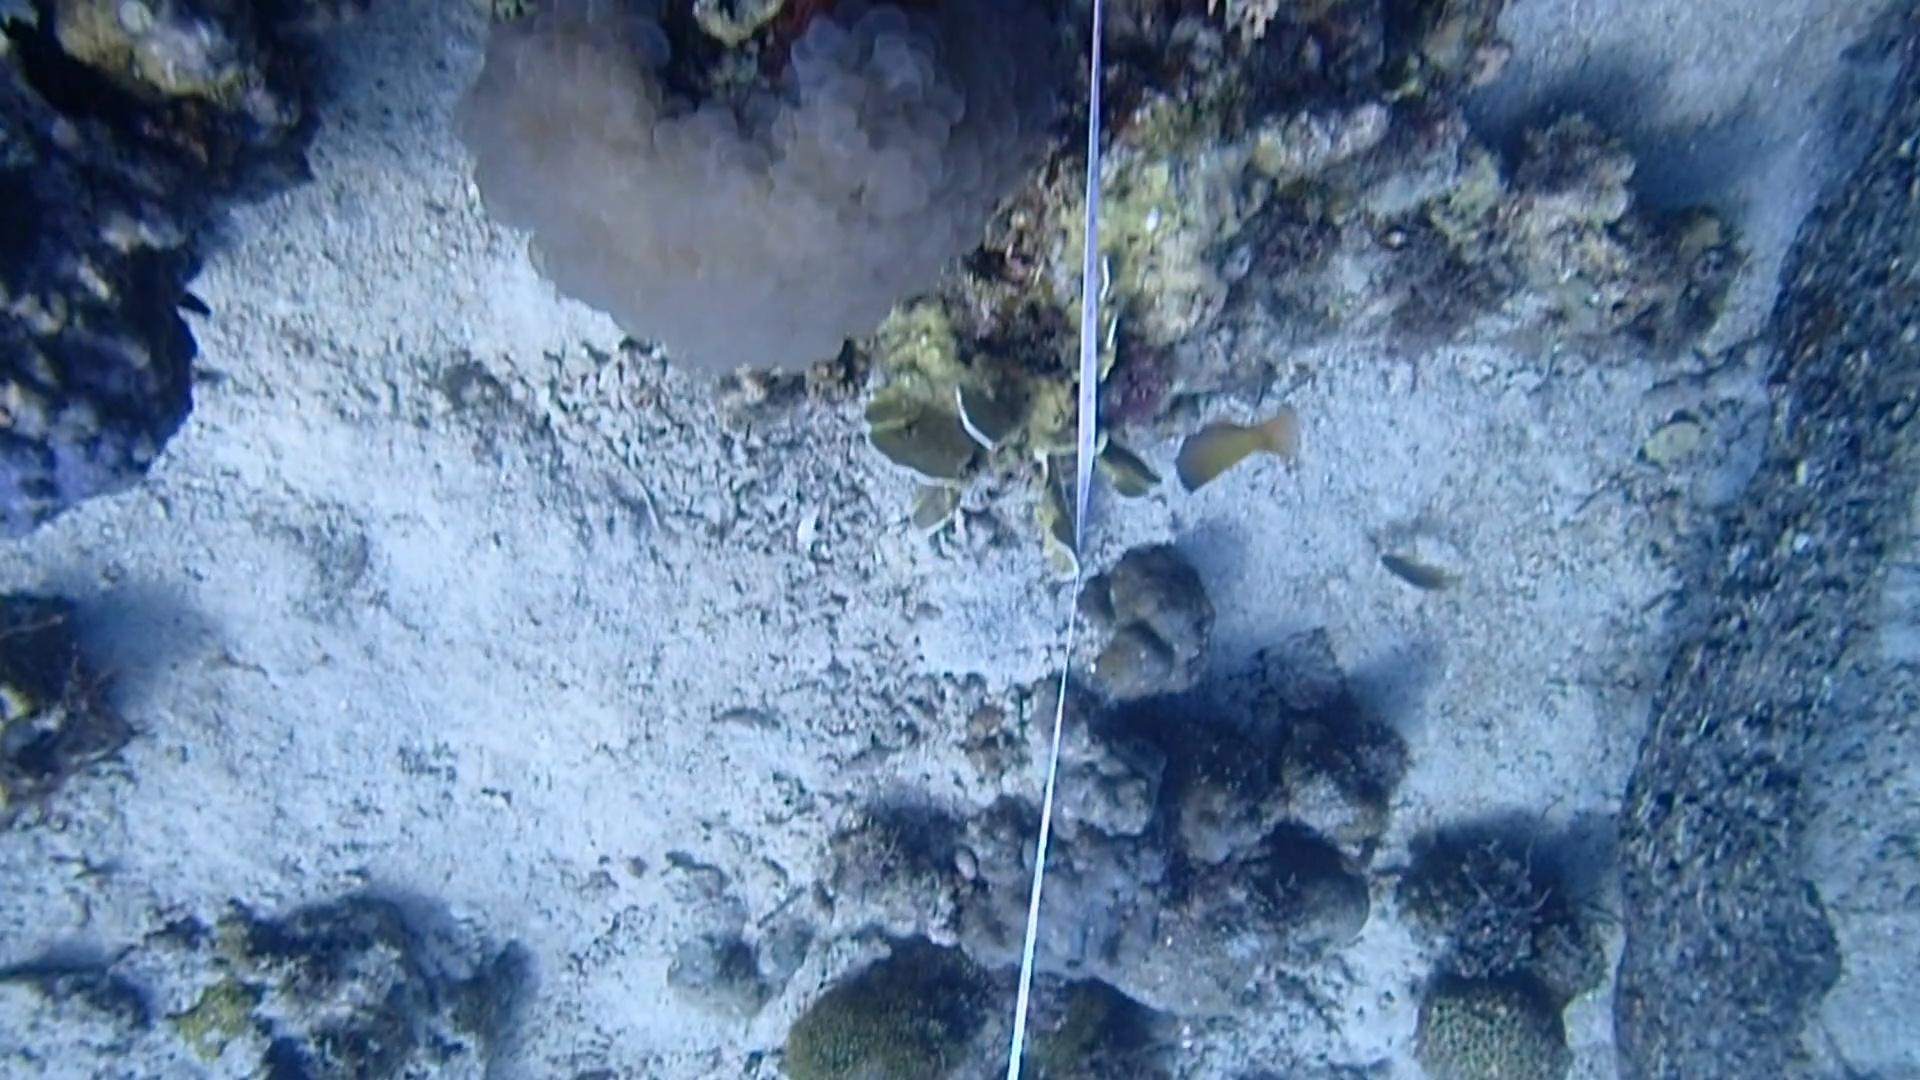Light Fish: (1365, 534, 1472, 609)
Yellow-Blue Fish: (1147, 396, 1304, 508)
